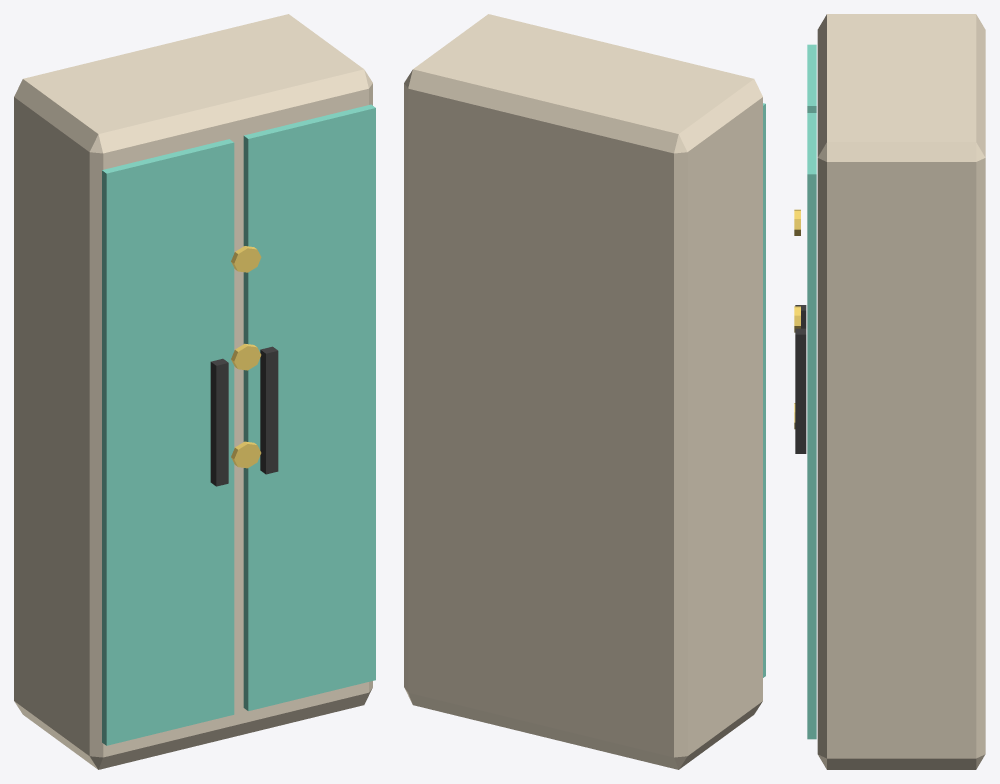
The picture shows the model from 3 angles, left to right: view 1: azimuth 30°, elevation 25°; view 2: azimuth 150°, elevation 25°; view 3: azimuth 270°, elevation 25°; orthographic projection.
Parts seen in each view (by area): view 1: Equipment case, Door, Door.001, Handle, Handle.001, Indicator, Indicator.001, Indicator.002; view 2: Equipment case, Door; view 3: Equipment case, Door.001, Handle.001, Door.
Part boxes in pixels (x1,y1,x2,y2): Equipment case: (14,14,372,769); Door: (102,139,234,745); Door.001: (243,104,375,711); Handle: (210,358,228,486); Handle.001: (260,346,278,474); Indicator: (231,441,261,468); Indicator.001: (231,343,261,370); Indicator.002: (231,246,261,272); Equipment case: (404,14,762,769); Door: (763,103,765,677); Equipment case: (817,14,985,769); Door.001: (807,113,816,739); Handle.001: (795,328,806,453); Door: (807,44,816,112).
Size of the model in its own units: 72.8 by 156 by 43.02.
